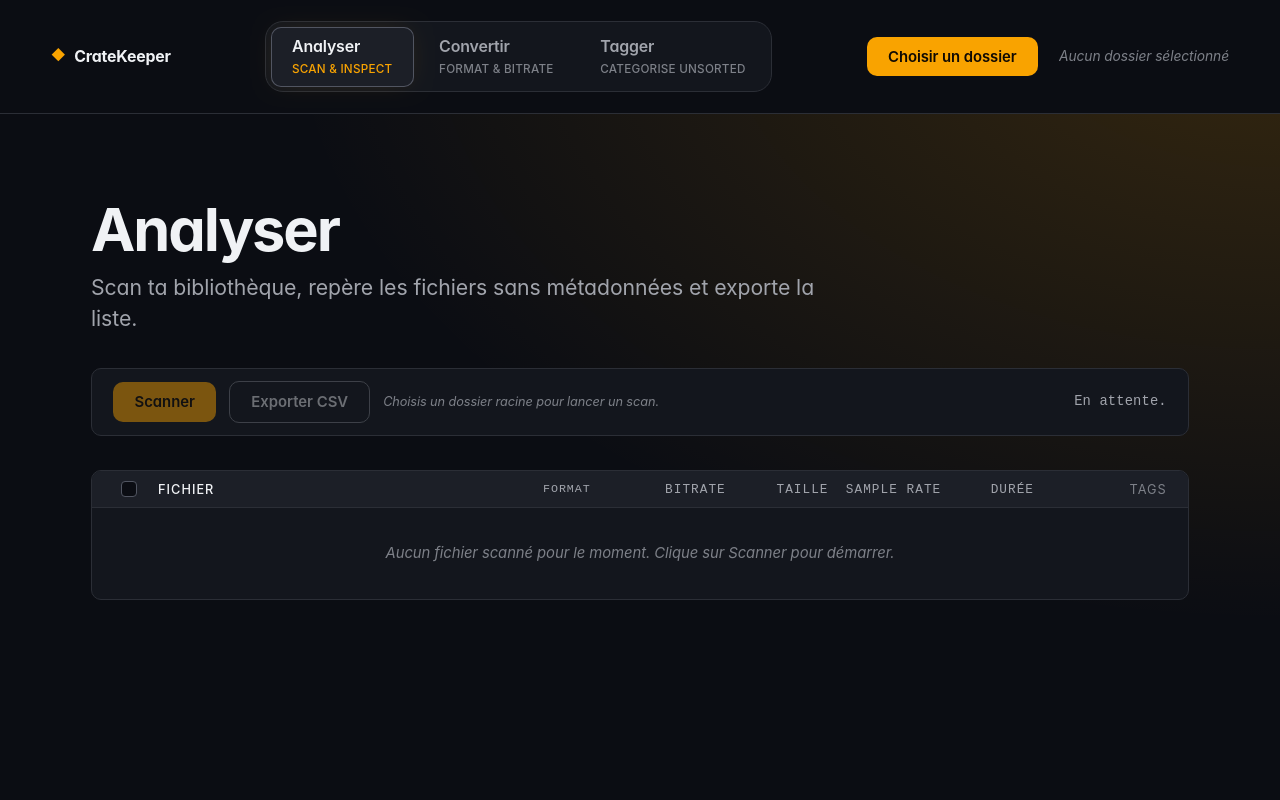
Test: App › switches the visible view to Tagger when the Tagger nav button is clicked
What coordinates should you click on to do the following:
click the button "Tagger Categorise unsorted"
I would click on:
 (673, 57)
Its box is [579,26,767,87].
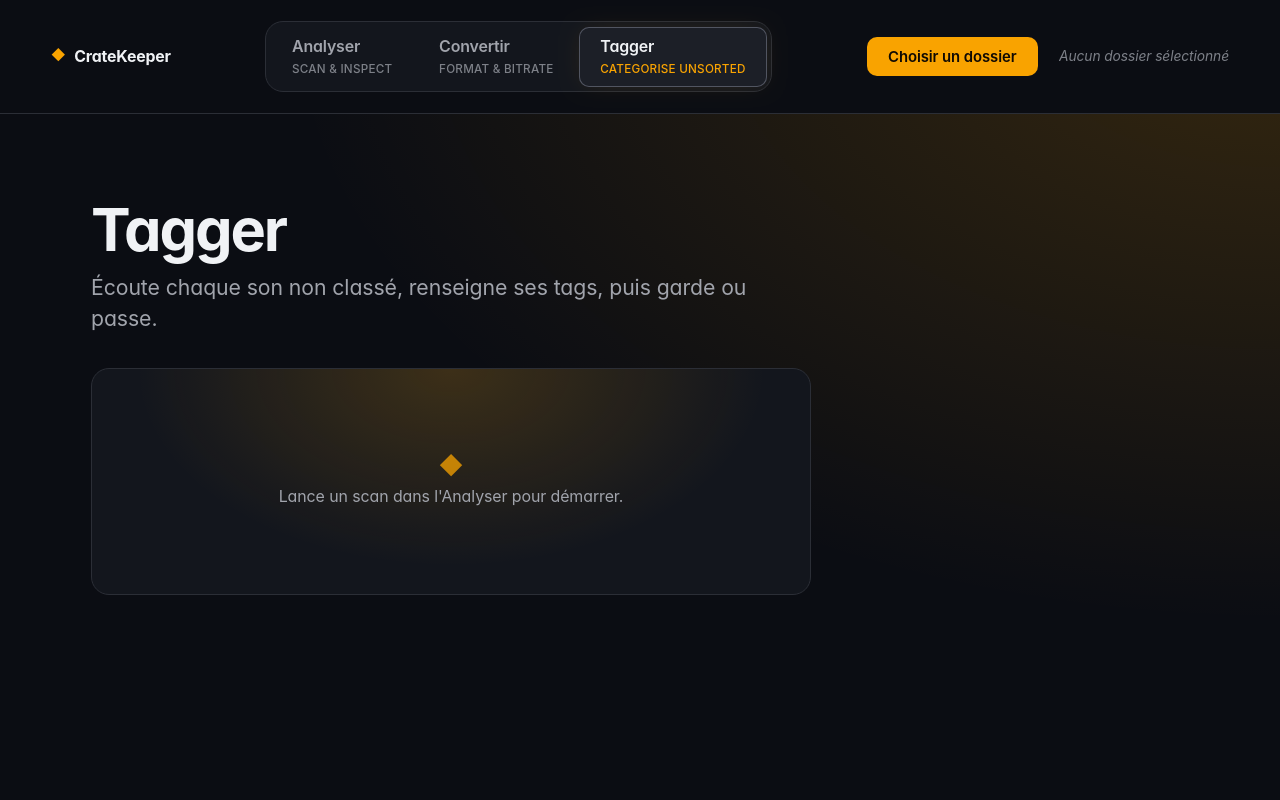
Expected: the heading "Tagger" is shown, [91,193,286,265]
